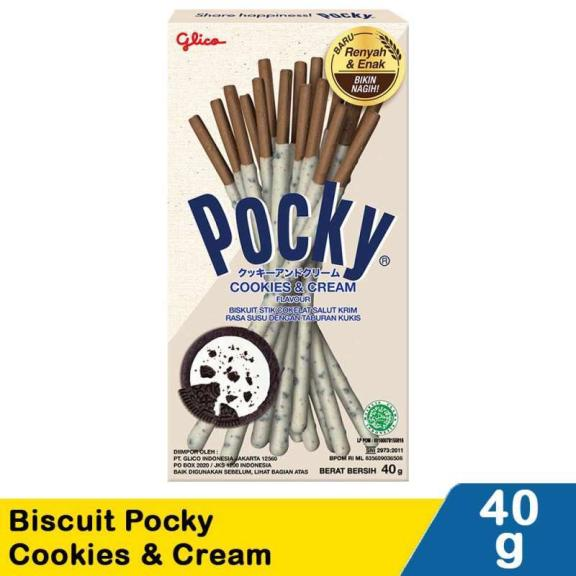Kertas: (167, 10, 413, 481)
